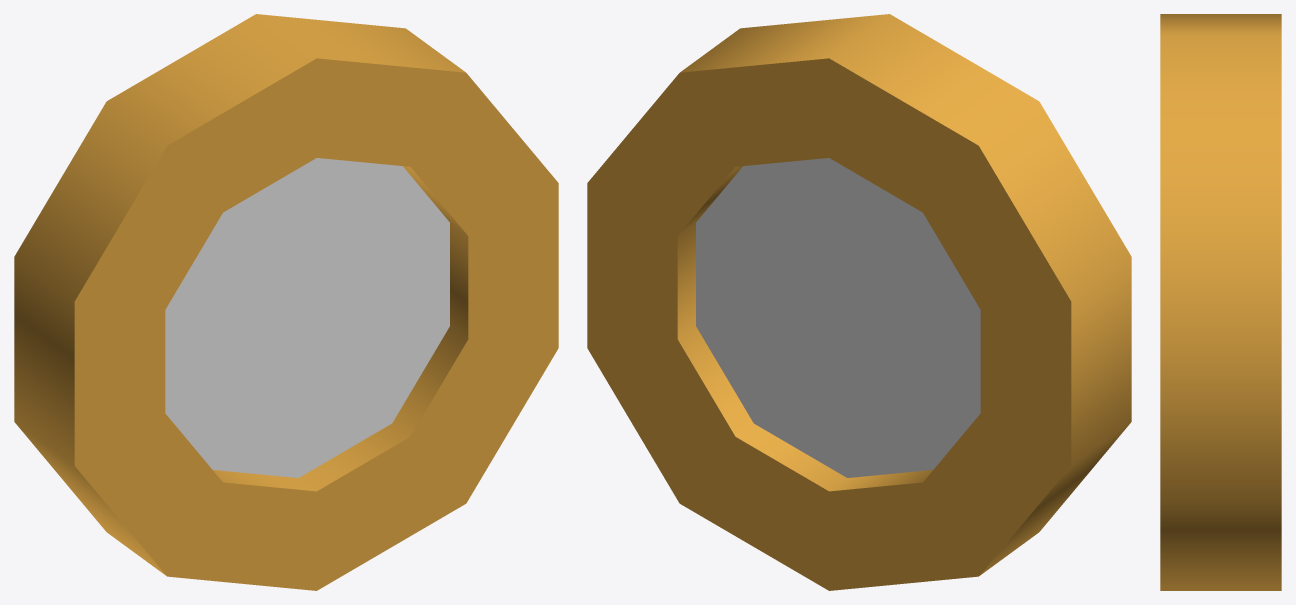
File: coin.fbx
3 views of the same model, side by side, from view 1: azimuth 30°, elevation 25°; view 2: azimuth 150°, elevation 25°; view 3: azimuth 270°, elevation 25° (orthographic).
Parts seen in each view (by area): view 1: coin; view 2: coin; view 3: coin.
Boxes of the visible parts, box(x1,y1,x2,y2) form: coin: box(14, 14, 558, 590); coin: box(587, 14, 1131, 590); coin: box(1160, 14, 1281, 590).
Size of the model in its own units: 95.11 by 100 by 20.62.
